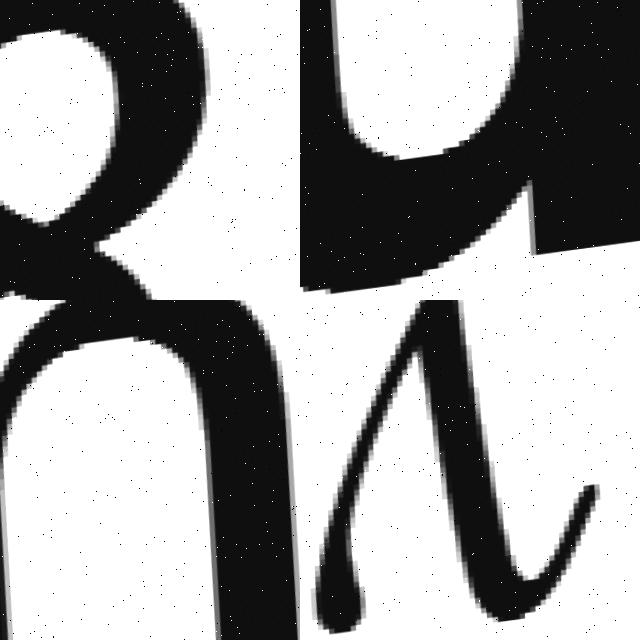8: (0, 0, 275, 300)
N: (300, 0, 640, 300)
U: (0, 300, 300, 640)
Y: (300, 300, 640, 640)
